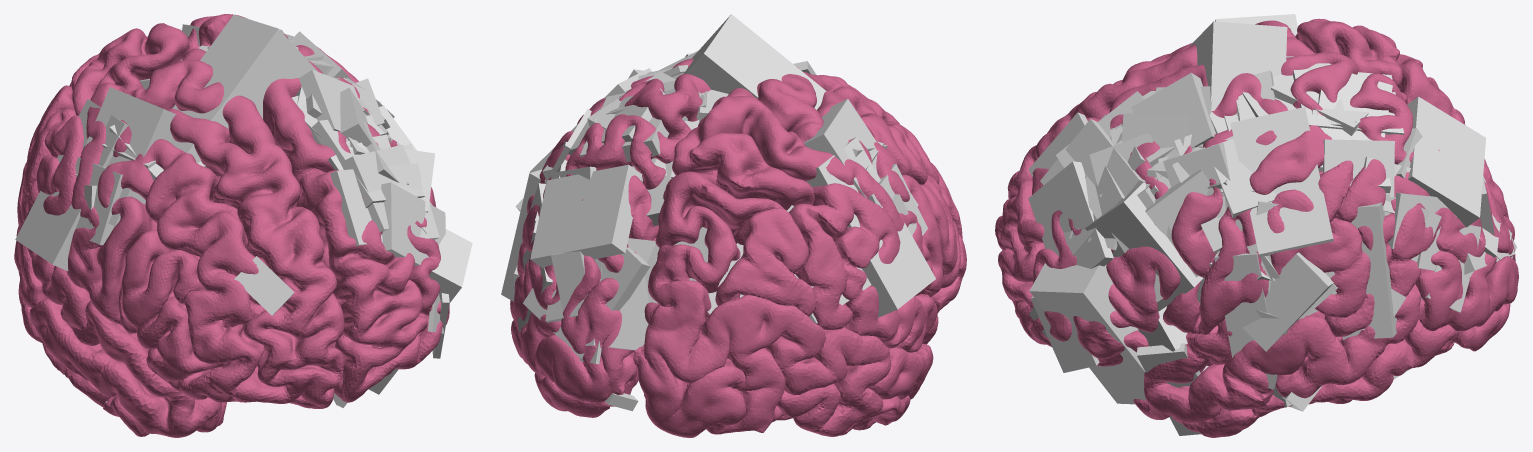
File: non_hra_mapping.glb
3 views of the same model, side by side, from view 1: azimuth 30°, elevation 25°; view 2: azimuth 150°, elevation 25°; view 3: azimuth 270°, elevation 25° (orthographic). The views are drawn at different scales.
Parts seen in each view (by area): view 1: world; view 2: world; view 3: world.
Part boxes in pixels (bbox=[...]): world: bbox=[14, 14, 472, 437]; world: bbox=[501, 14, 966, 437]; world: bbox=[995, 14, 1518, 437].
Bounding box in the file's own units: 149 × 148 × 180.
